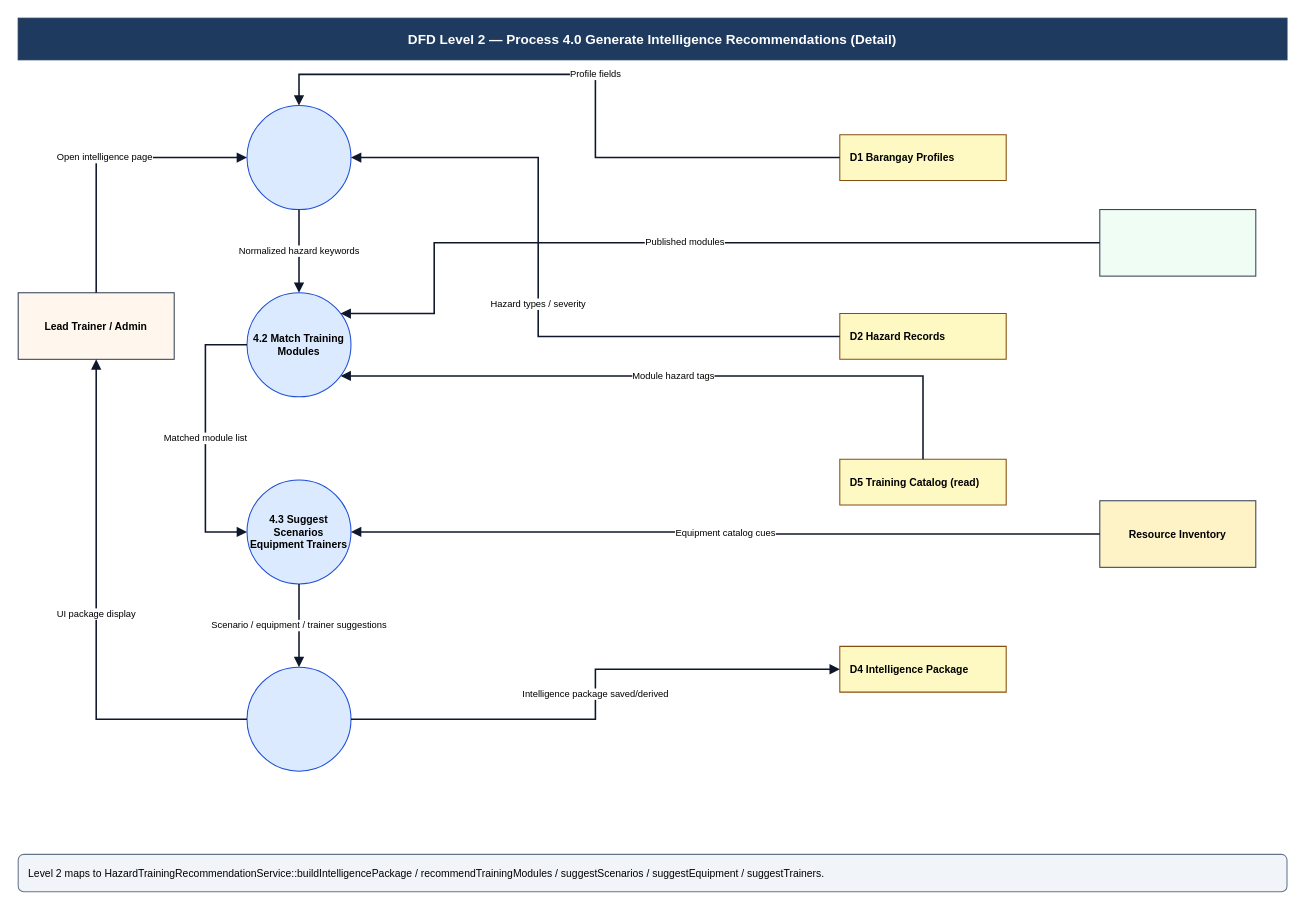
Image size: 1305x910. Some labels were removed from this diagram. The box of each missing label's shape, as (x1, y1, x2, y2) in pixels:
4.1 Load Profile & Hazards: (246, 105, 351, 210)
4.4 Build Intelligence Package: (246, 666, 351, 771)
Training Module: (1099, 209, 1256, 276)
